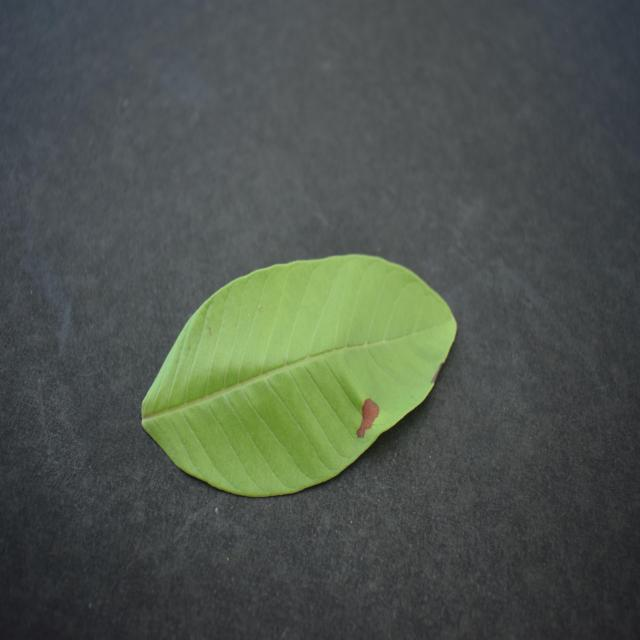Dot: (141, 255, 456, 497)
